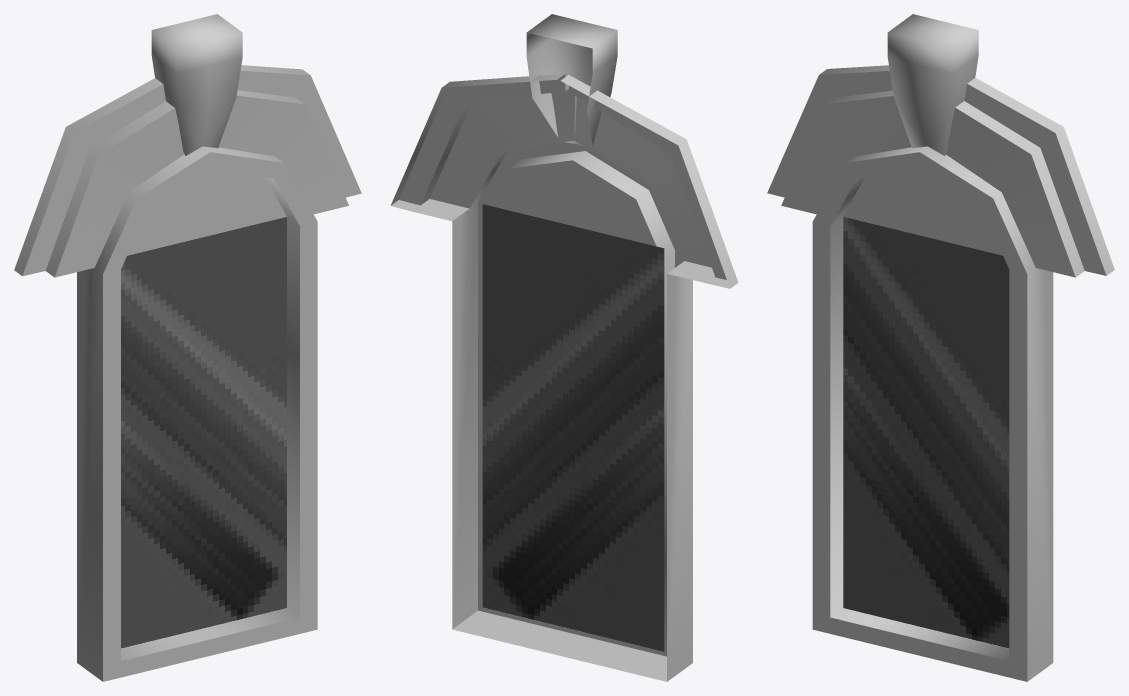
File: window1.FBX
3 renders of one model, left to right at view 1: azimuth 30°, elevation 25°; view 2: azimuth 150°, elevation 25°; view 3: azimuth 330°, elevation 25°, orthographic.
Parts seen in each view (by area): view 1: frame, glass; view 2: frame, glass; view 3: frame, glass.
Boxes of the visible parts, x1,y1,x2,y2 form: frame: [14, 14, 361, 681]; glass: [121, 217, 286, 648]; frame: [390, 14, 738, 681]; glass: [482, 204, 664, 651]; frame: [767, 14, 1114, 681]; glass: [843, 217, 1009, 648].
Size of the model in its own units: 1.41 by 2.44 by 0.1866.
